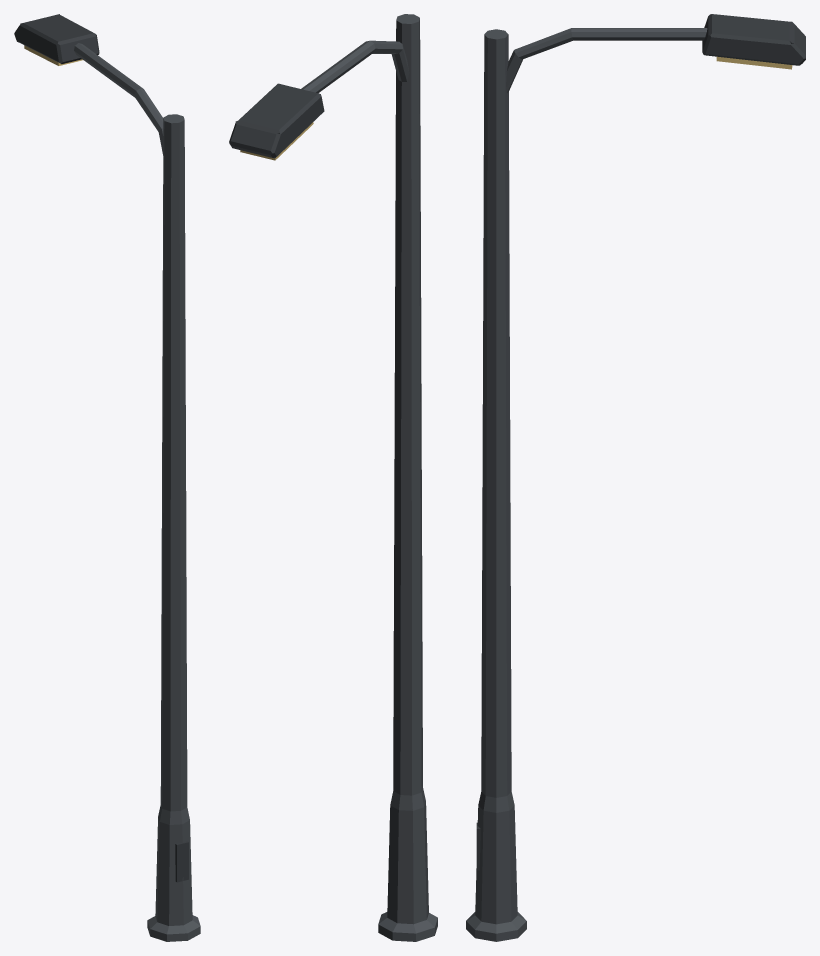
Rendered from lampadaire.glb.
3 views of the same model, side by side, from view 1: azimuth 30°, elevation 25°; view 2: azimuth 150°, elevation 25°; view 3: azimuth 270°, elevation 25° (orthographic). The views are drawn at different scales.
Parts seen in each view (by area): view 1: mast, head, arm, hatch; view 2: mast, head, arm; view 3: mast, head, arm.
Part boxes in pixels (box(x1,y1,x2,y2)): mast: box(147, 114, 200, 941); head: box(14, 14, 99, 64); arm: box(74, 43, 163, 155); hatch: box(175, 841, 188, 882); mast: box(378, 14, 437, 941); head: box(229, 83, 324, 158); arm: box(301, 40, 409, 93); mast: box(466, 29, 526, 941); head: box(702, 14, 805, 65); arm: box(506, 28, 707, 92).
Bounding box in the file's own units: 0.4 × 6.58 × 2.24.
3 materials, 3 textured.
